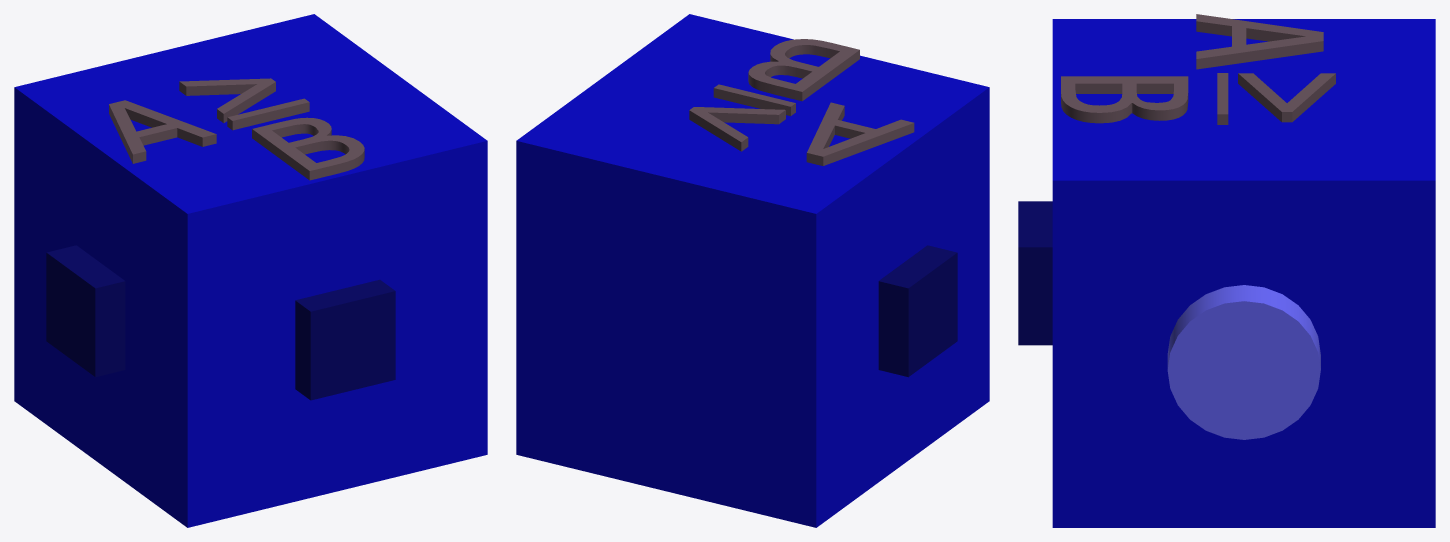
The model's file is GreaterThanOrEqual_Logic.dae.
3 renders of one model, left to right at view 1: azimuth 30°, elevation 25°; view 2: azimuth 150°, elevation 25°; view 3: azimuth 270°, elevation 25°, orthographic. The views are drawn at different scales.
Parts seen in each view (by area): view 1: SketchUp (×3), B, A, instance_0, instance_3; view 2: SketchUp (×2), B, A, instance_0, instance_3; view 3: SketchUp (×3), B (×2), A, instance_0, instance_3.
Part boxes in pixels (box(x1,y1,x2,y2)): SketchUp (×3): box(14, 14, 487, 527); B: box(252, 117, 364, 180); A: box(109, 100, 216, 163); instance_0: box(179, 78, 275, 123); instance_3: box(227, 98, 309, 130); SketchUp (×2): box(516, 14, 989, 527); B: box(748, 39, 859, 101); A: box(806, 102, 914, 165); instance_0: box(689, 107, 785, 151); instance_3: box(713, 84, 795, 116); SketchUp (×3): box(1018, 19, 1435, 527); B (×2): box(1061, 76, 1188, 123); A: box(1196, 14, 1323, 69); instance_0: box(1238, 73, 1335, 122); instance_3: box(1217, 73, 1228, 124).
Bounding box in the file's own units: 47.24 × 42.91 × 40.55.
